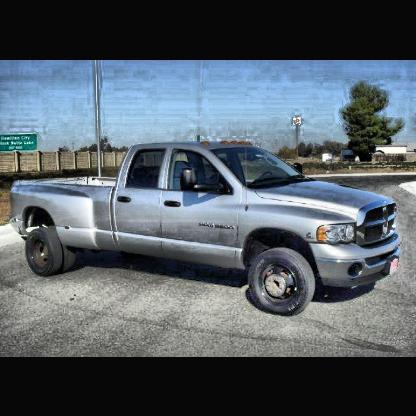Dodge Ram Pickup 3500 Quad Cab 2009: (8, 140, 403, 317)
